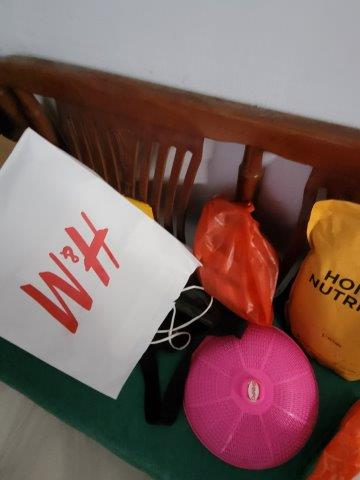plastik: (196, 195, 278, 327)
